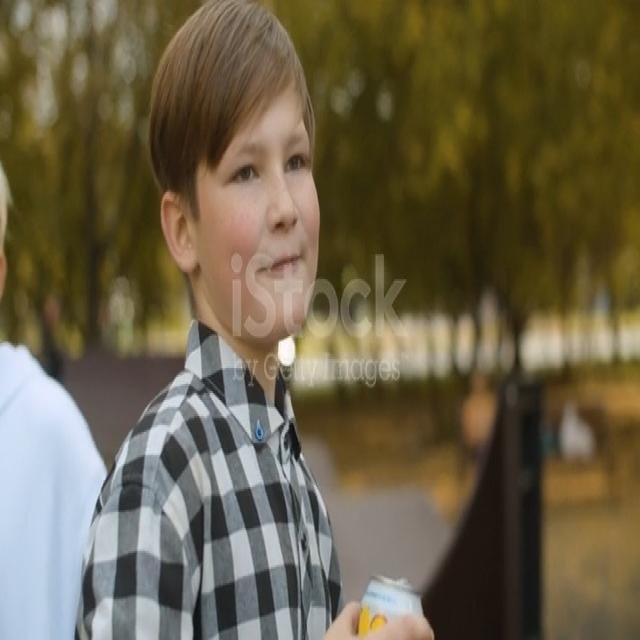can: (356, 569, 427, 640)
